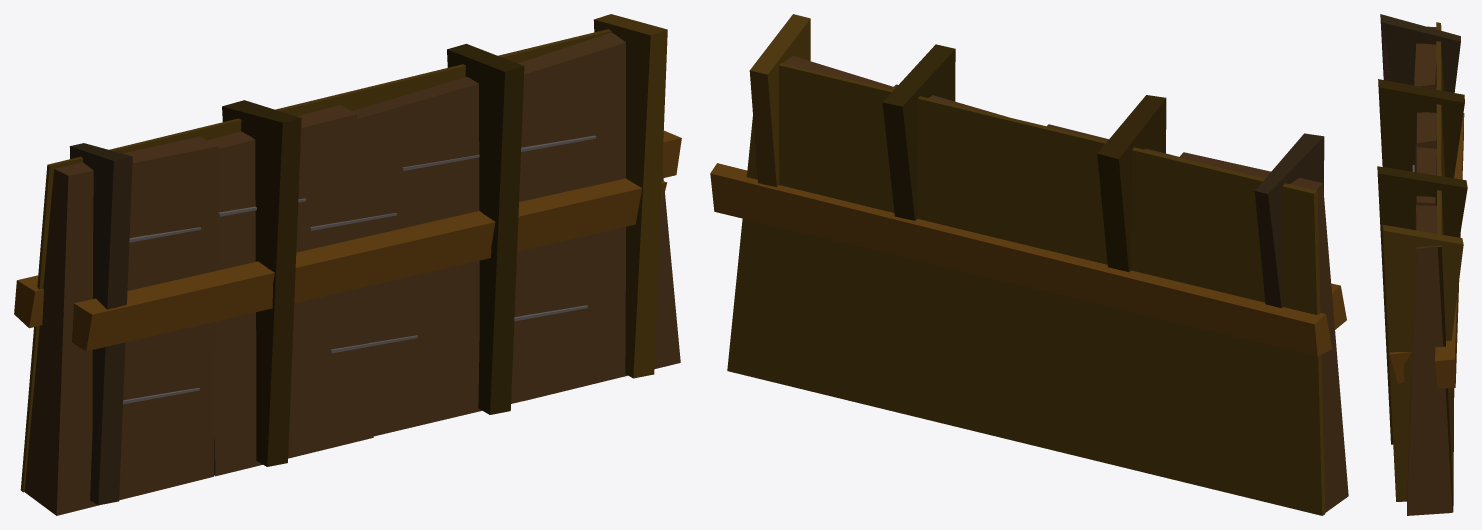
The model's file is WoodWall.fbx.
3 views of the same model, side by side, from view 1: azimuth 30°, elevation 25°; view 2: azimuth 150°, elevation 25°; view 3: azimuth 270°, elevation 25° (orthographic). The views are drawn at different scales.
Visible parts, largest first — view 1: Cube.005, Cube.003, Cube.001, Cube.025, Cube.020, Cube.024, Cube.022, Cube.019; view 2: Cube.020, Cube.025, Cube.024, Cube.022, Cube.003, Cube.019, Cube.005; view 3: Cube.005, Cube.020, Cube.022, Cube.024, Cube.019, Cube.025, Cube.003, Cube.001.
Boxes of the visible parts, bbox=[...] form: Cube.005: bbox=[352, 32, 680, 436]; Cube.003: bbox=[24, 136, 218, 515]; Cube.001: bbox=[208, 105, 373, 476]; Cube.025: bbox=[14, 130, 681, 351]; Cube.020: bbox=[20, 14, 667, 492]; Cube.024: bbox=[447, 43, 524, 414]; Cube.022: bbox=[222, 100, 301, 466]; Cube.019: bbox=[69, 143, 132, 505]; Cube.020: bbox=[727, 14, 1325, 515]; Cube.025: bbox=[710, 163, 1346, 356]; Cube.024: bbox=[882, 44, 955, 220]; Cube.022: bbox=[1097, 95, 1166, 271]; Cube.003: bbox=[1179, 152, 1348, 512]; Cube.019: bbox=[1254, 133, 1324, 307]; Cube.005: bbox=[782, 56, 1006, 116]; Cube.005: bbox=[1407, 147, 1452, 515]; Cube.020: bbox=[1382, 22, 1463, 511]; Cube.022: bbox=[1378, 79, 1464, 178]; Cube.024: bbox=[1377, 166, 1467, 444]; Cube.019: bbox=[1380, 14, 1460, 92]; Cube.025: bbox=[1389, 113, 1464, 388]; Cube.003: bbox=[1414, 26, 1436, 89]; Cube.001: bbox=[1414, 88, 1436, 172].
Size of the model in its own units: 821 by 431 by 126.
